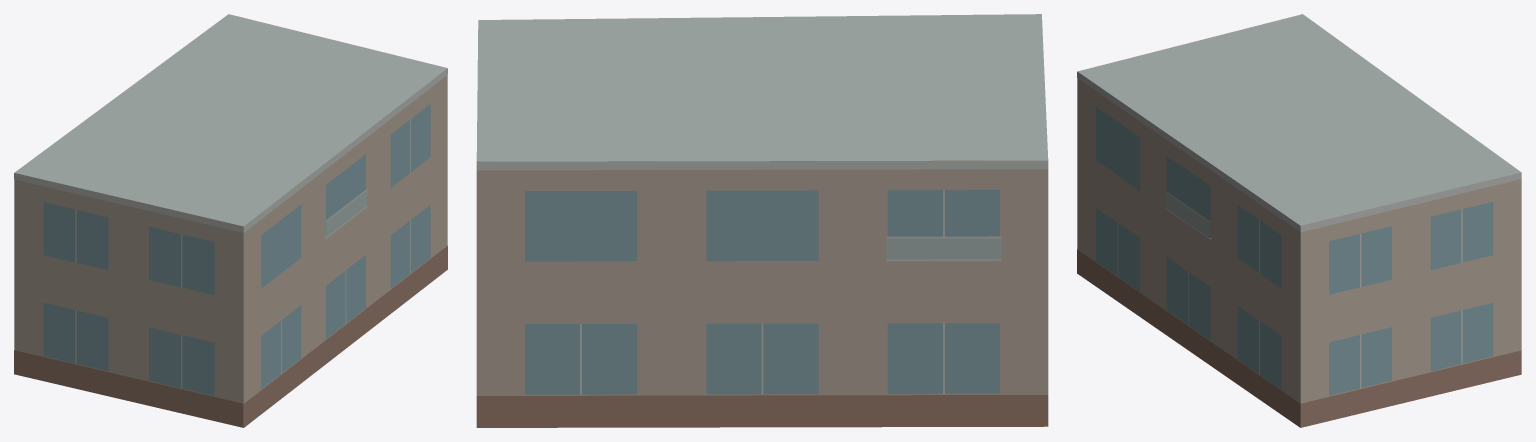
File: survey-upis-32744783.glb
3 views of the same model, side by side, from view 1: azimuth 30°, elevation 25°; view 2: azimuth 150°, elevation 25°; view 3: azimuth 270°, elevation 25° (orthographic). The views are drawn at different scales.
Visible parts, largest first — view 1: survey-upis-32744783.tmp; view 2: survey-upis-32744783.tmp; view 3: survey-upis-32744783.tmp.
Part boxes in pixels (x1,y1,x2,y2): survey-upis-32744783.tmp: [14, 14, 447, 427]; survey-upis-32744783.tmp: [476, 14, 1048, 427]; survey-upis-32744783.tmp: [1077, 14, 1521, 427].
Bounding box in the file's own units: 16.82 × 7.48 × 14.92.
